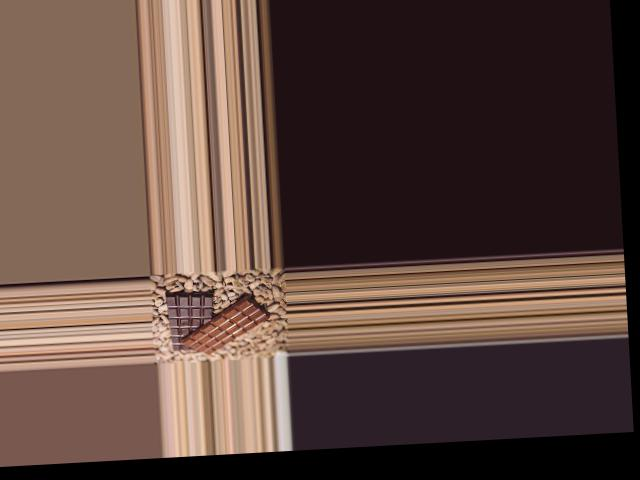chocolate: (159, 287, 216, 355)
